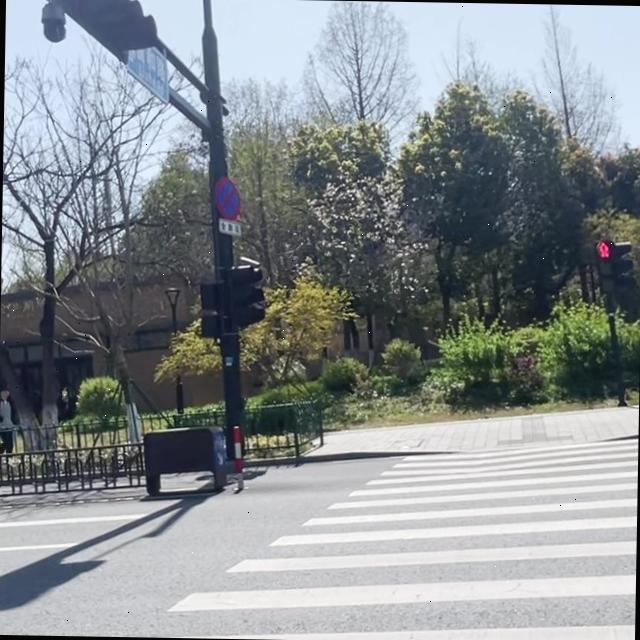curb: (296, 450, 457, 465), (600, 434, 637, 441), (259, 460, 289, 465)
